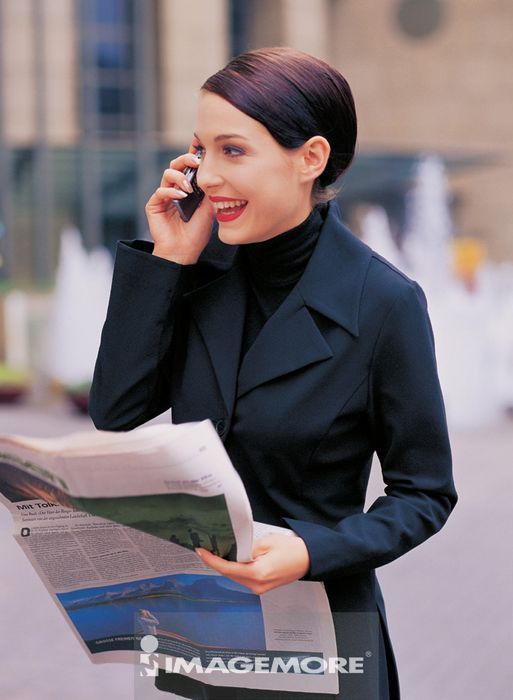talk: (142, 122, 272, 263)
